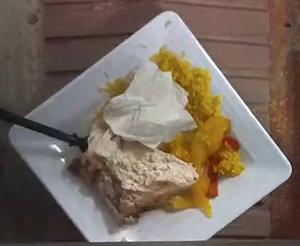chicken: (80, 129, 199, 223)
peppers: (159, 115, 244, 217)
rice: (149, 46, 243, 215)
